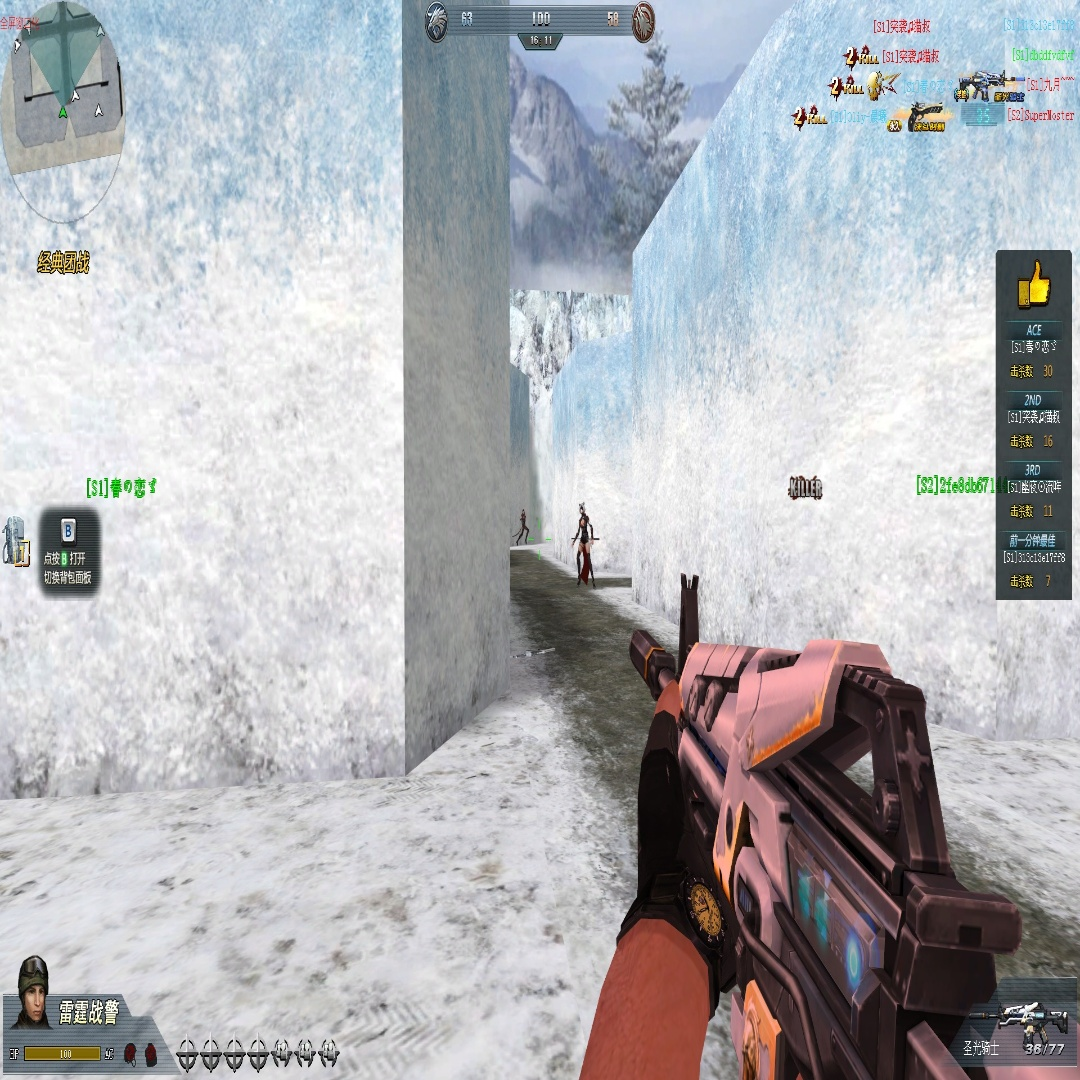head: (522, 509, 525, 514)
t: (516, 508, 529, 544)
